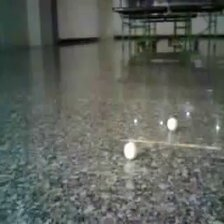w: (123, 142, 138, 159), (167, 117, 179, 132)
